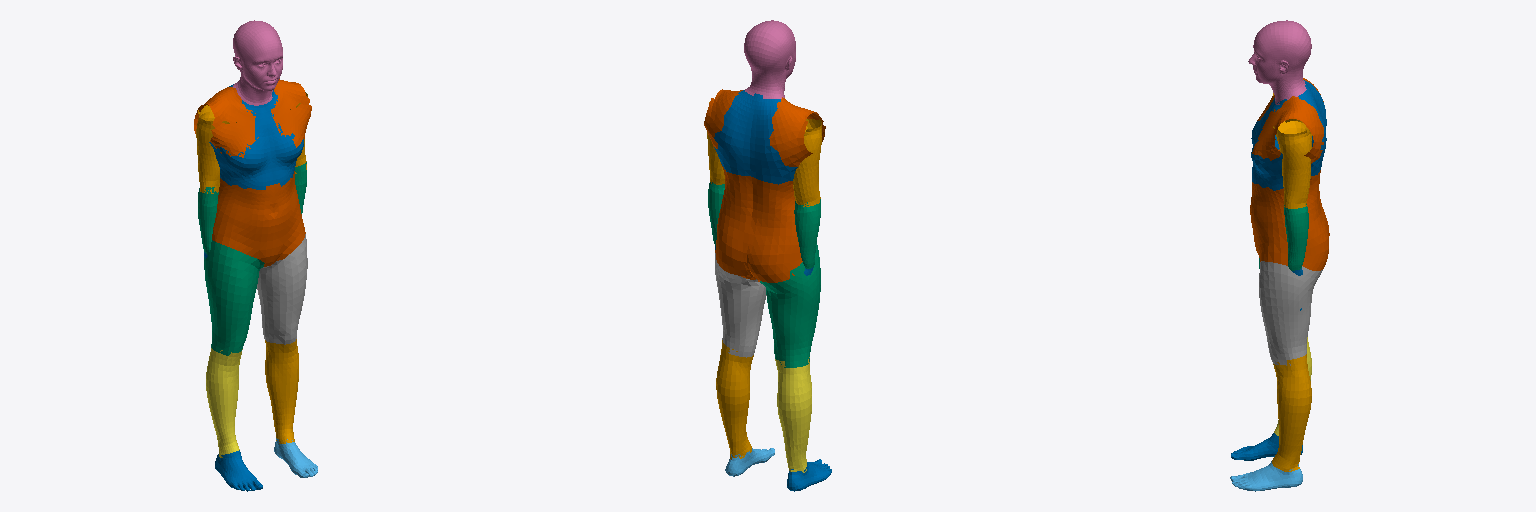
robot.urdf — soma_arms:
<robot name="soma_arms">
  <link name="Base"/>
  <link name="Waist_y"/>
  <link name="Waist_p"/>
  <link name="Waist_r"/>
  <link name="Chest"><visual><geometry><mesh filename="meshes/Chest.obj"/></geometry></visual><collision><geometry><mesh filename="meshes/Chest.obj"/></geometry></collision></link>
  <joint name="waist_yaw" type="revolute"><parent link="Base"/><child link="Waist_y"/><origin xyz="-0.000000 -0.006499 -0.071912" rpy="0.000000 0.000000 0.000000"/><axis xyz="0.000000 0.000000 1.000000"/><limit lower="-0.7" upper="0.7" effort="100" velocity="6.0"/></joint>
  <joint name="waist_pitch" type="revolute"><parent link="Waist_y"/><child link="Waist_p"/><origin xyz="0.000000 0.000000 0.000000" rpy="0.000000 0.000000 0.000000"/><axis xyz="1.000000 0.000000 0.000000"/><limit lower="-0.25" upper="0.9" effort="100" velocity="6.0"/></joint>
  <joint name="waist_roll" type="revolute"><parent link="Waist_p"/><child link="Waist_r"/><origin xyz="0.000000 0.000000 0.000000" rpy="0.000000 0.000000 0.000000"/><axis xyz="0.000000 1.000000 0.000000"/><limit lower="-0.35" upper="0.35" effort="100" velocity="6.0"/></joint>
  <joint name="Waist_to_Chest" type="fixed"><parent link="Waist_r"/><child link="Chest"/><origin xyz="0.000000 0.006499 0.071912" rpy="0.000000 0.000000 0.000000"/></joint>
  <link name="Abdomen"><visual><geometry><mesh filename="meshes/Abdomen.obj"/></geometry></visual><collision><geometry><mesh filename="meshes/Abdomen.obj"/></geometry></collision></link>
  <joint name="Base_to_Abdomen" type="fixed"><parent link="Base"/><child link="Abdomen"/><origin xyz="-0.000000 -0.008090 -0.144634" rpy="0.000000 0.000000 0.000000"/></joint>
  <link name="Head"><visual><geometry><mesh filename="meshes/Head.obj"/></geometry></visual><collision><geometry><mesh filename="meshes/Head.obj"/></geometry></collision></link>
  <joint name="Chest_to_Head" type="fixed"><parent link="Chest"/><child link="Head"/><origin xyz="-0.000182 0.006136 0.255394" rpy="0.000000 0.000000 0.000000"/></joint>
  <link name="LeftThigh"><visual><geometry><mesh filename="meshes/LeftThigh.obj"/></geometry></visual><collision><geometry><mesh filename="meshes/LeftThigh.obj"/></geometry></collision></link>
  <joint name="Base_to_LeftThigh" type="fixed"><parent link="Base"/><child link="LeftThigh"/><origin xyz="0.112505 -0.030271 -0.278192" rpy="0.000000 0.000000 0.000000"/></joint>
  <link name="LeftShin"><visual><geometry><mesh filename="meshes/LeftShin.obj"/></geometry></visual><collision><geometry><mesh filename="meshes/LeftShin.obj"/></geometry></collision></link>
  <joint name="Base_to_LeftShin" type="fixed"><parent link="Base"/><child link="LeftShin"/><origin xyz="0.112505 -0.030271 -0.685606" rpy="0.000000 0.000000 0.000000"/></joint>
  <link name="LeftFoot"><visual><geometry><mesh filename="meshes/LeftFoot.obj"/></geometry></visual><collision><geometry><mesh filename="meshes/LeftFoot.obj"/></geometry></collision></link>
  <joint name="Base_to_LeftFoot" type="fixed"><parent link="Base"/><child link="LeftFoot"/><origin xyz="0.112505 -0.030271 -1.080779" rpy="0.000000 0.000000 0.000000"/></joint>
  <link name="RightThigh"><visual><geometry><mesh filename="meshes/RightThigh.obj"/></geometry></visual><collision><geometry><mesh filename="meshes/RightThigh.obj"/></geometry></collision></link>
  <joint name="Base_to_RightThigh" type="fixed"><parent link="Base"/><child link="RightThigh"/><origin xyz="-0.112523 -0.029915 -0.278190" rpy="0.000000 0.000000 0.000000"/></joint>
  <link name="RightShin"><visual><geometry><mesh filename="meshes/RightShin.obj"/></geometry></visual><collision><geometry><mesh filename="meshes/RightShin.obj"/></geometry></collision></link>
  <joint name="Base_to_RightShin" type="fixed"><parent link="Base"/><child link="RightShin"/><origin xyz="-0.112523 -0.029915 -0.685605" rpy="0.000000 0.000000 0.000000"/></joint>
  <link name="RightFoot"><visual><geometry><mesh filename="meshes/RightFoot.obj"/></geometry></visual><collision><geometry><mesh filename="meshes/RightFoot.obj"/></geometry></collision></link>
  <joint name="Base_to_RightFoot" type="fixed"><parent link="Base"/><child link="RightFoot"/><origin xyz="-0.112523 -0.029915 -1.080774" rpy="0.000000 0.000000 0.000000"/></joint>
  <link name="LeftShoulder"><visual><geometry><mesh filename="meshes/LeftShoulder.obj"/></geometry></visual><collision><geometry><mesh filename="meshes/LeftShoulder.obj"/></geometry></collision></link>
  <joint name="LeftShoulder_fixed" type="fixed"><parent link="Chest"/><child link="LeftShoulder"/><origin xyz="0.017903 -0.050807 0.224135" rpy="0.000000 0.000000 0.000000"/></joint>
  <link name="LeftArm_p"/>
  <link name="LeftArm_r"/>
  <link name="LeftArm"><visual><geometry><mesh filename="meshes/LeftArm.obj"/></geometry></visual><collision><geometry><mesh filename="meshes/LeftArm.obj"/></geometry></collision></link>
  <joint name="Left_shoulder_pitch" type="revolute"><parent link="LeftShoulder"/><child link="LeftArm_p"/><origin xyz="0.149605 0.055173 0.000000" rpy="0.000000 1.570796 0.000000"/><axis xyz="0.000000 0.000000 1.000000"/><limit lower="-3.0" upper="3.0" effort="100" velocity="6.0"/></joint>
  <joint name="Left_shoulder_roll" type="revolute"><parent link="LeftArm_p"/><child link="LeftArm_r"/><origin xyz="0.000000 0.000000 0.000000" rpy="0.000000 0.000000 0.000000"/><axis xyz="0.000000 1.000000 0.000000"/><limit lower="-2.8" upper="2.8" effort="100" velocity="6.0"/></joint>
  <joint name="Left_shoulder_yaw" type="revolute"><parent link="LeftArm_r"/><child link="LeftArm"/><origin xyz="0.000000 0.000000 0.000000" rpy="0.000000 0.000000 0.000000"/><axis xyz="1.000000 0.000000 0.000000"/><limit lower="-1.6" upper="1.6" effort="100" velocity="6.0"/></joint>
  <link name="LeftForeArm_e"/>
  <link name="LeftForeArm"><visual><geometry><mesh filename="meshes/LeftForeArm.obj"/></geometry></visual><collision><geometry><mesh filename="meshes/LeftForeArm.obj"/></geometry></collision></link>
  <joint name="Left_elbow" type="revolute"><parent link="LeftArm"/><child link="LeftForeArm_e"/><origin xyz="0.274125 0.000000 0.000000" rpy="0.000000 0.000000 0.000000"/><axis xyz="0.000000 0.000000 -1.000000"/><limit lower="0.0" upper="2.6" effort="100" velocity="6.0"/></joint>
  <joint name="Left_forearm_twist" type="revolute"><parent link="LeftForeArm_e"/><child link="LeftForeArm"/><origin xyz="0.000000 0.000000 0.000000" rpy="0.000000 0.000000 0.000000"/><axis xyz="1.000000 0.000000 0.000000"/><limit lower="-1.6" upper="1.6" effort="100" velocity="6.0"/></joint>
  <link name="LeftHand_f"/>
  <link name="LeftHand"><visual><geometry><mesh filename="meshes/LeftHand.obj"/></geometry></visual><collision><geometry><mesh filename="meshes/LeftHand.obj"/></geometry></collision></link>
  <joint name="Left_wrist_flex" type="revolute"><parent link="LeftForeArm"/><child link="LeftHand_f"/><origin xyz="0.248509 0.000000 0.000000" rpy="0.000000 0.000000 0.000000"/><axis xyz="0.000000 1.000000 0.000000"/><limit lower="-1.2" upper="1.2" effort="100" velocity="6.0"/></joint>
  <joint name="Left_wrist_dev" type="revolute"><parent link="LeftHand_f"/><child link="LeftHand"/><origin xyz="0.000000 0.000000 0.000000" rpy="0.000000 0.000000 0.000000"/><axis xyz="0.000000 0.000000 1.000000"/><limit lower="-0.6" upper="0.6" effort="100" velocity="6.0"/></joint>
  <link name="RightShoulder"><visual><geometry><mesh filename="meshes/RightShoulder.obj"/></geometry></visual><collision><geometry><mesh filename="meshes/RightShoulder.obj"/></geometry></collision></link>
  <joint name="RightShoulder_fixed" type="fixed"><parent link="Chest"/><child link="RightShoulder"/><origin xyz="-0.019258 -0.050472 0.224100" rpy="0.000000 0.000000 0.000000"/></joint>
  <link name="RightArm_p"/>
  <link name="RightArm_r"/>
  <link name="RightArm"><visual><geometry><mesh filename="meshes/RightArm.obj"/></geometry></visual><collision><geometry><mesh filename="meshes/RightArm.obj"/></geometry></collision></link>
  <joint name="Right_shoulder_pitch" type="revolute"><parent link="RightShoulder"/><child link="RightArm_p"/><origin xyz="-0.149601 0.055172 0.000000" rpy="0.000000 -1.570796 0.000000"/><axis xyz="0.000000 0.000000 -1.000000"/><limit lower="-3.0" upper="3.0" effort="100" velocity="6.0"/></joint>
  <joint name="Right_shoulder_roll" type="revolute"><parent link="RightArm_p"/><child link="RightArm_r"/><origin xyz="0.000000 0.000000 0.000000" rpy="0.000000 0.000000 0.000000"/><axis xyz="0.000000 1.000000 0.000000"/><limit lower="-2.8" upper="2.8" effort="100" velocity="6.0"/></joint>
  <joint name="Right_shoulder_yaw" type="revolute"><parent link="RightArm_r"/><child link="RightArm"/><origin xyz="0.000000 0.000000 0.000000" rpy="0.000000 0.000000 0.000000"/><axis xyz="-1.000000 0.000000 0.000000"/><limit lower="-1.6" upper="1.6" effort="100" velocity="6.0"/></joint>
  <link name="RightForeArm_e"/>
  <link name="RightForeArm"><visual><geometry><mesh filename="meshes/RightForeArm.obj"/></geometry></visual><collision><geometry><mesh filename="meshes/RightForeArm.obj"/></geometry></collision></link>
  <joint name="Right_elbow" type="revolute"><parent link="RightArm"/><child link="RightForeArm_e"/><origin xyz="-0.274026 0.000000 0.000000" rpy="0.000000 0.000000 0.000000"/><axis xyz="0.000000 0.000000 1.000000"/><limit lower="0.0" upper="2.6" effort="100" velocity="6.0"/></joint>
  <joint name="Right_forearm_twist" type="revolute"><parent link="RightForeArm_e"/><child link="RightForeArm"/><origin xyz="0.000000 0.000000 0.000000" rpy="0.000000 0.000000 0.000000"/><axis xyz="-1.000000 0.000000 0.000000"/><limit lower="-1.6" upper="1.6" effort="100" velocity="6.0"/></joint>
  <link name="RightHand_f"/>
  <link name="RightHand"><visual><geometry><mesh filename="meshes/RightPalm.obj"/></geometry></visual><collision><geometry><mesh filename="meshes/RightHand.obj"/></geometry></collision></link>
  <joint name="Right_wrist_flex" type="revolute"><parent link="RightForeArm"/><child link="RightHand_f"/><origin xyz="-0.248608 0.000000 0.000000" rpy="0.000000 0.000000 0.000000"/><axis xyz="0.000000 -1.000000 0.000000"/><limit lower="-1.2" upper="1.2" effort="100" velocity="6.0"/></joint>
  <joint name="Right_wrist_dev" type="revolute"><parent link="RightHand_f"/><child link="RightHand"/><origin xyz="0.000000 0.000000 0.000000" rpy="0.000000 0.000000 0.000000"/><axis xyz="0.000000 0.000000 1.000000"/><limit lower="-0.6" upper="0.6" effort="100" velocity="6.0"/></joint>
</robot>

--- What the picture shows (computed from the rendered views, not written in the file) ---
3 views of the same robot in one strip: view 1: azimuth 30°, elevation 25°; view 2: azimuth 150°, elevation 25°; view 3: azimuth 270°, elevation 25° (orthographic).
Robot: soma_arms — 29 links, 28 joints (17 revolute, 11 fixed); root link Base; default pose: every joint at zero.
Links seen in each view (by area): view 1: Abdomen, RightThigh, Chest, LeftThigh, Head, RightShin, LeftShin, RightShoulder, LeftShoulder, RightArm, RightFoot, RightForeArm (+1 smaller); view 2: Abdomen, Chest, RightThigh, LeftThigh, Head, RightShin, LeftShin, RightShoulder, RightArm, RightForeArm, LeftShoulder, RightFoot (+2 smaller); view 3: LeftThigh, Abdomen, Head, LeftShin, LeftArm, Chest, LeftShoulder, LeftFoot, LeftForeArm, RightFoot.
Link boxes in pixels (x1,y1,x2,y2): Abdomen: (212,171,305,266); RightThigh: (204,240,264,355); Chest: (209,84,303,189); LeftThigh: (257,234,307,344); Head: (233,20,282,105); RightShin: (206,348,242,457); LeftShin: (265,339,298,443); RightShoulder: (194,87,258,157); LeftShoulder: (271,79,311,147); RightArm: (196,105,236,193); RightFoot: (215,450,262,491); RightForeArm: (198,187,218,254); Abdomen: (715,164,802,282); Chest: (714,90,797,184); RightThigh: (760,244,820,367); LeftThigh: (715,253,766,357); Head: (744,20,795,98); RightShin: (775,357,811,472); LeftShin: (716,340,753,459); RightShoulder: (769,97,825,166); RightArm: (793,119,821,206); RightForeArm: (794,199,820,268); LeftShoulder: (704,89,742,148); RightFoot: (787,459,831,491); LeftThigh: (1259,261,1322,365); Abdomen: (1250,149,1329,270); Head: (1248,20,1311,104); LeftShin: (1272,354,1311,471); LeftArm: (1273,121,1312,208); Chest: (1251,80,1326,190); LeftShoulder: (1252,96,1323,163); LeftFoot: (1230,461,1302,491); LeftForeArm: (1284,204,1308,270); RightFoot: (1231,433,1302,460).
Bounding box of the posed robot: 0.4318 × 0.3399 × 1.7 m (x, y, z).
Meshes: 17 distinct files referenced, 17 mesh visuals loaded (17 OBJ).
